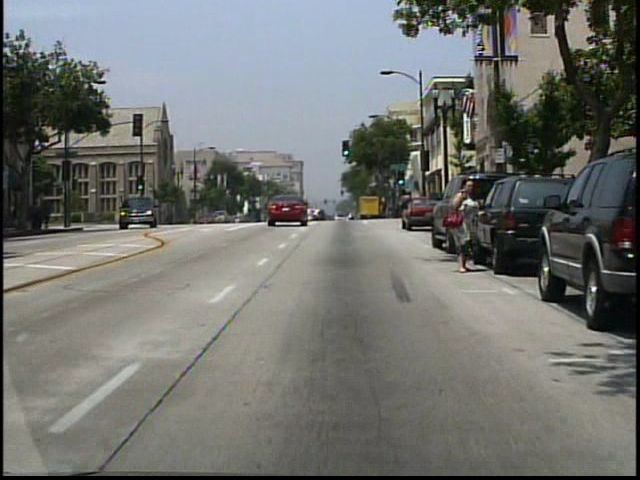person: (445, 176, 492, 275)
